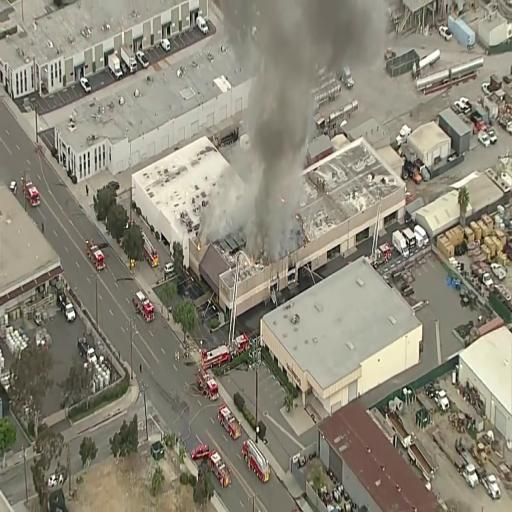smoke: (259, 12, 292, 219)
